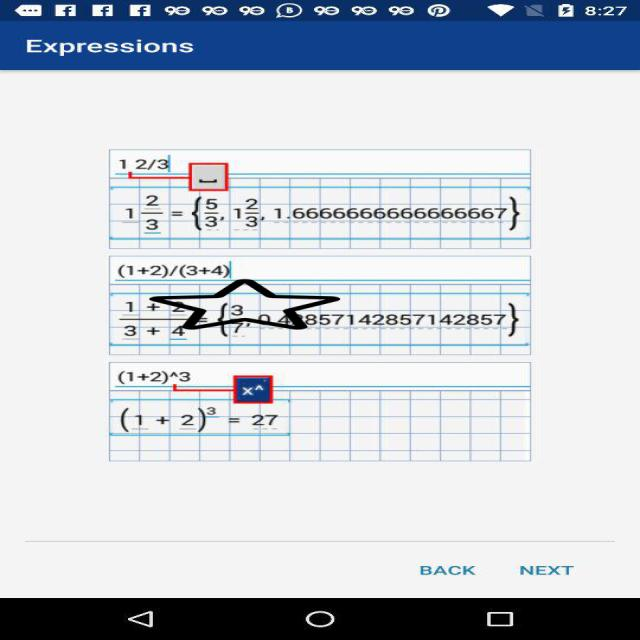forced continuity: (149, 278, 340, 331)
